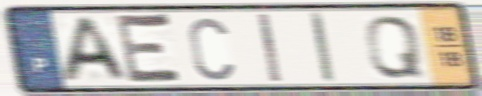A: (57, 15, 133, 84)
C: (185, 15, 237, 83)
E: (114, 10, 187, 87)
I: (307, 10, 339, 85), (255, 11, 284, 84)
Q: (362, 13, 426, 81)
